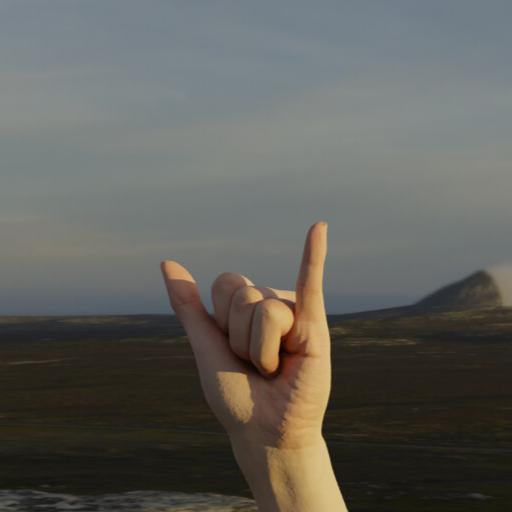Y: (154, 215, 339, 474)
